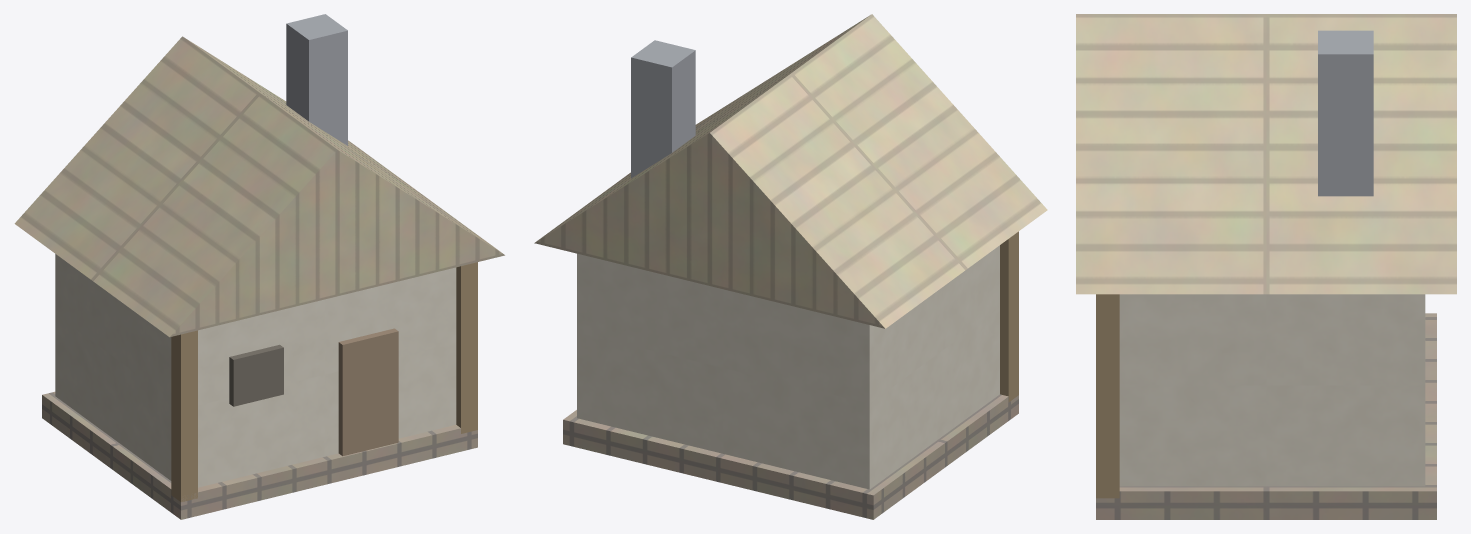
The model's file is house.glb.
3 renders of one model, left to right at view 1: azimuth 30°, elevation 25°; view 2: azimuth 150°, elevation 25°; view 3: azimuth 270°, elevation 25°, orthographic. The views are drawn at different scales.
Visible parts, largest first — view 1: house roof, house walls, house sill, house door, house chimney, house post 1, house post 2, house window; view 2: house roof, house walls, house sill, house chimney, house post 1; view 3: house roof, house walls, house sill, house chimney, house post 2.
Part boxes in pixels (x1,y1,x2,y2): house roof: [14, 36, 504, 337]; house walls: [55, 254, 456, 487]; house sill: [42, 391, 477, 519]; house door: [338, 328, 398, 456]; house chimney: [286, 14, 347, 145]; house post 1: [171, 330, 197, 502]; house post 2: [456, 262, 477, 433]; house window: [229, 344, 283, 406]; house roof: [534, 14, 1047, 328]; house walls: [577, 245, 999, 489]; house sill: [563, 394, 1018, 519]; house chimney: [631, 40, 695, 178]; house post 1: [1000, 231, 1018, 402]; house roof: [1076, 14, 1456, 294]; house walls: [1119, 294, 1425, 486]; house sill: [1096, 313, 1436, 519]; house chimney: [1318, 30, 1373, 196]; house post 2: [1096, 294, 1119, 498].
Bounding box in the file's own units: 1.2 × 1.23 × 0.96.
8 materials, 3 textured.
